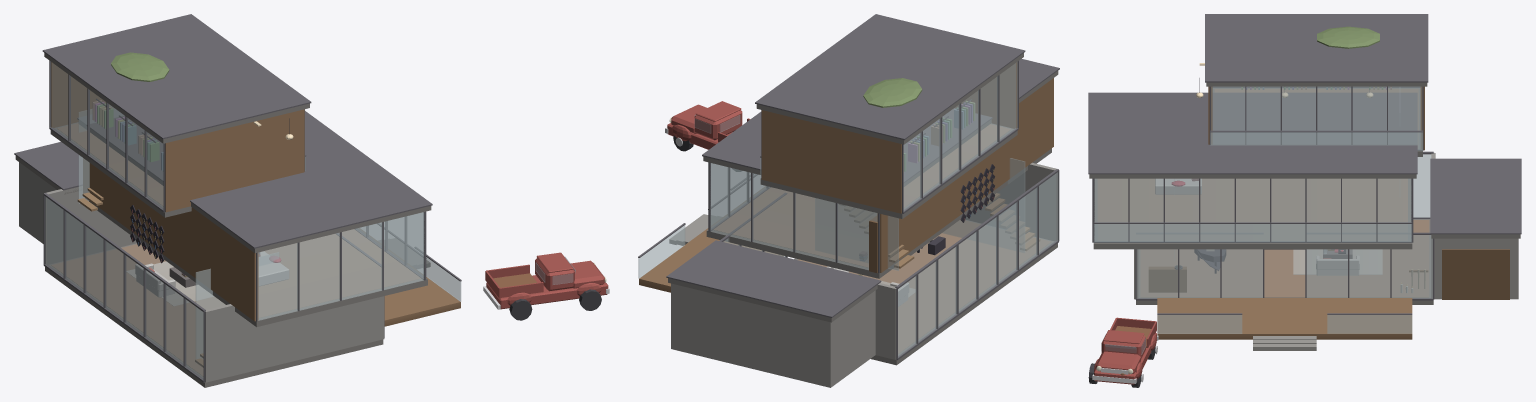
File: Mist_MullenHouse.fbx
The picture shows the model from 3 angles, left to right: view 1: azimuth 30°, elevation 25°; view 2: azimuth 150°, elevation 25°; view 3: azimuth 270°, elevation 25°; orthographic projection. The views are drawn at different scales.
Parts seen in each view (by area): view 1: Bld_MullenHouse, Bld_MullenHouse_Roof; view 2: Bld_MullenHouse, Bld_MullenHouse_Roof; view 3: Bld_MullenHouse, Bld_MullenHouse_Roof.
Boxes of the visible parts, left/top/right/bottom form: Bld_MullenHouse: left=19, top=60, right=609, bottom=387; Bld_MullenHouse_Roof: left=14, top=14, right=432, bottom=252; Bld_MullenHouse: left=638, top=61, right=1059, bottom=387; Bld_MullenHouse_Roof: left=666, top=14, right=1059, bottom=322; Bld_MullenHouse: left=1088, top=63, right=1518, bottom=387; Bld_MullenHouse_Roof: left=1088, top=14, right=1521, bottom=238.
Bounding box in the file's own units: 19.94 × 11 × 20.4.
